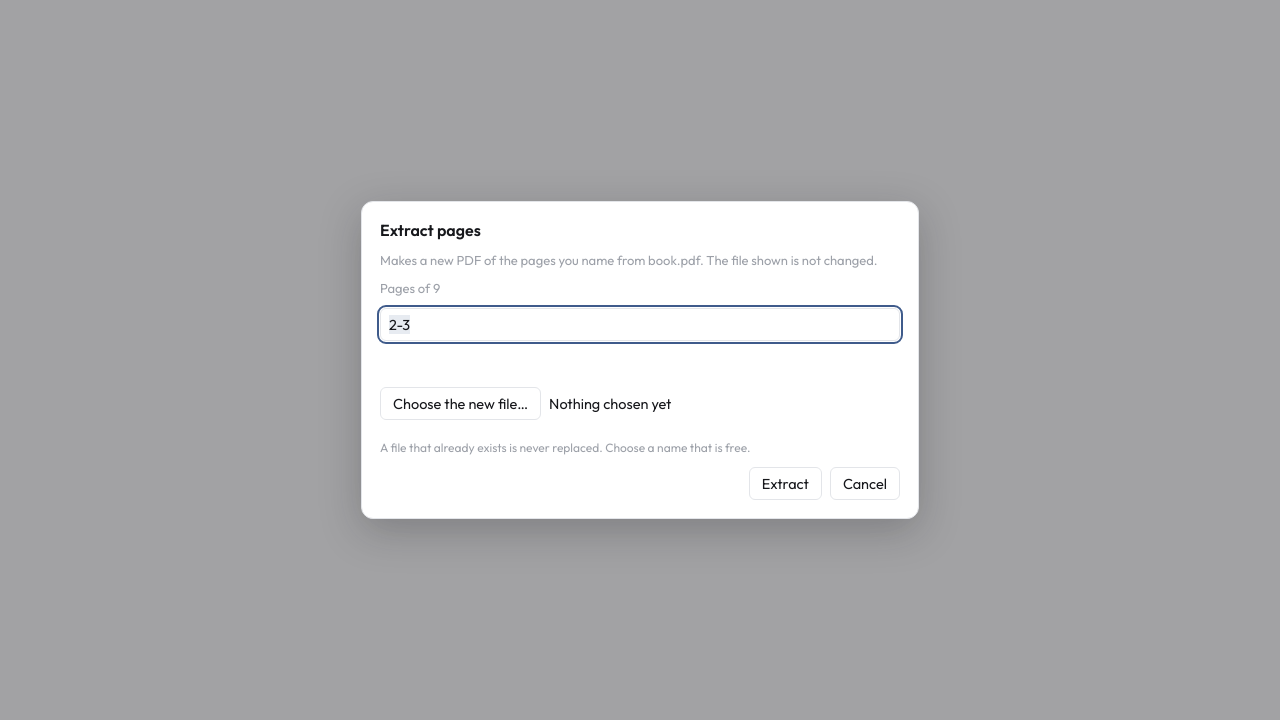
Test: the_pages_field_starts_with_the_chosen_pages_and_says_what_is_wrong_with_a_range
Replace the text in the field labelled "Pages of 9" with "0" at (640, 324), box [380,308,900,341]
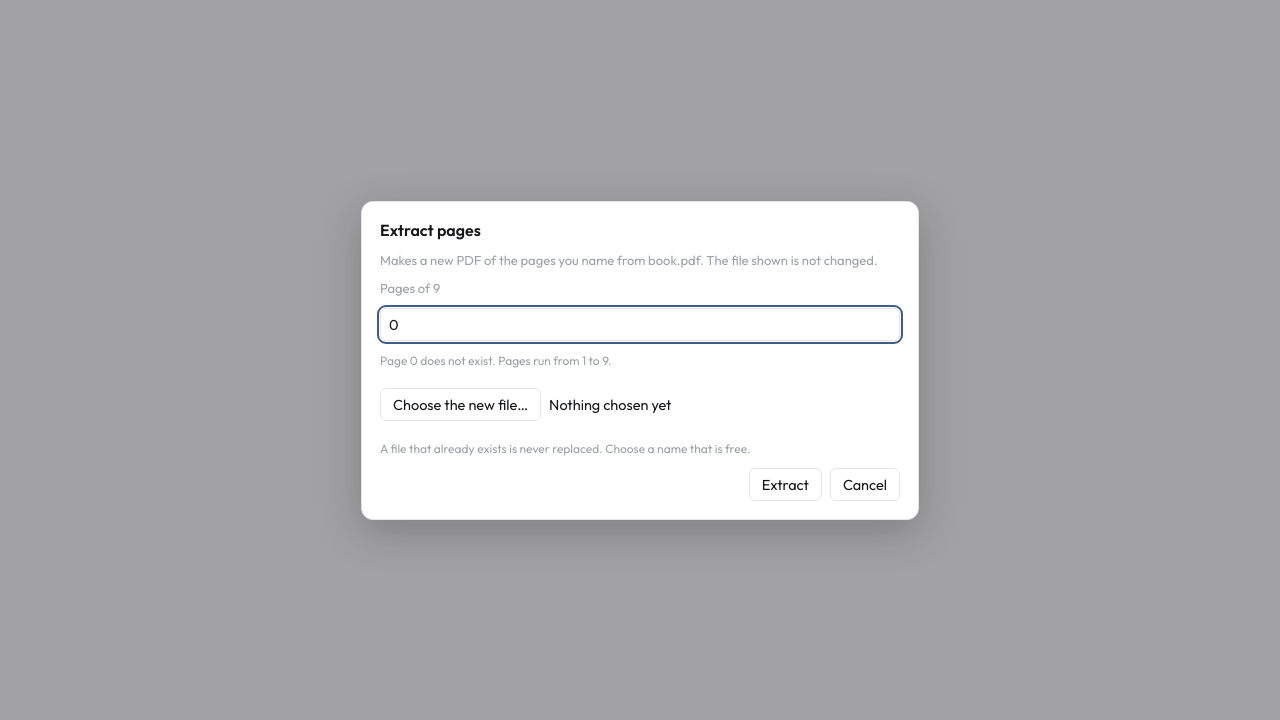
Check: the text "Page 0 does not exist. Pages run from 1 to 9." is shown, box [380,352,612,368]
Replace the text in the field labelled "Pages of 9" with "12" at (640, 324), box [380,308,900,340]
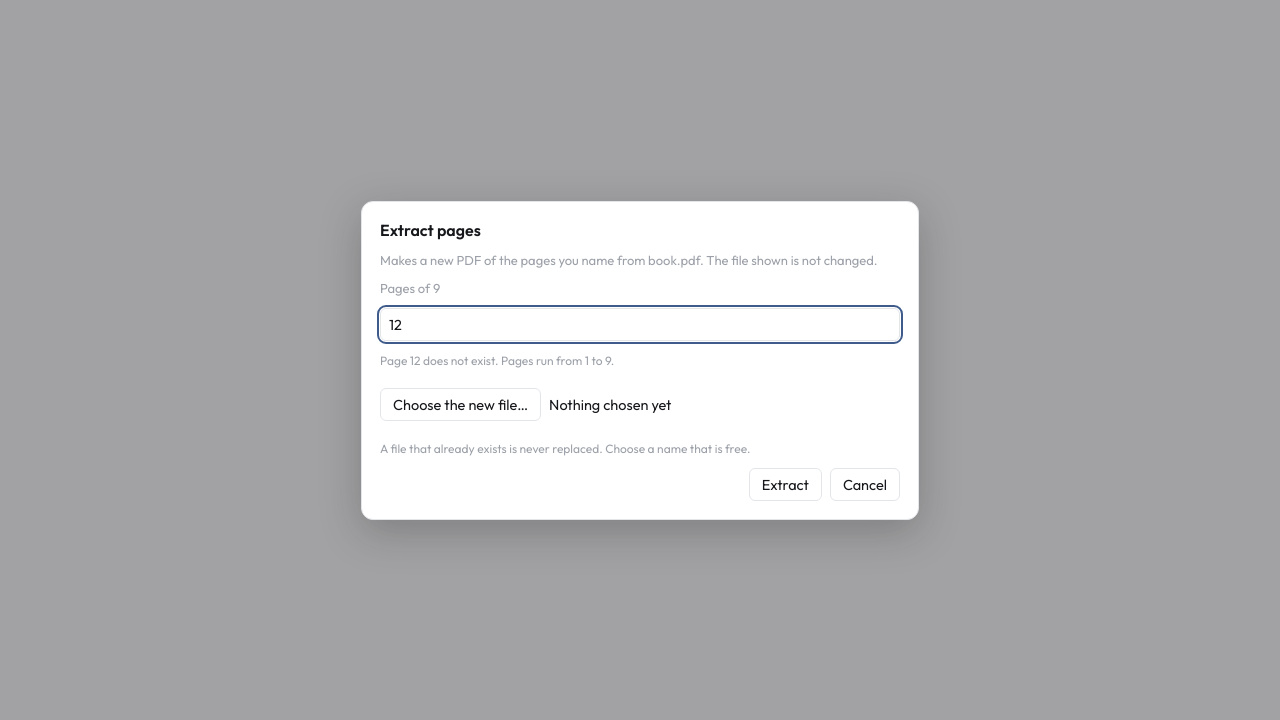
Check: the text "Page 12 does not exist. Pages run from 1 to 9." is shown, box [380,352,614,368]
Replace the text in the field labelled "Pages of 9" with "4-2" at (640, 324), box [380,308,900,340]
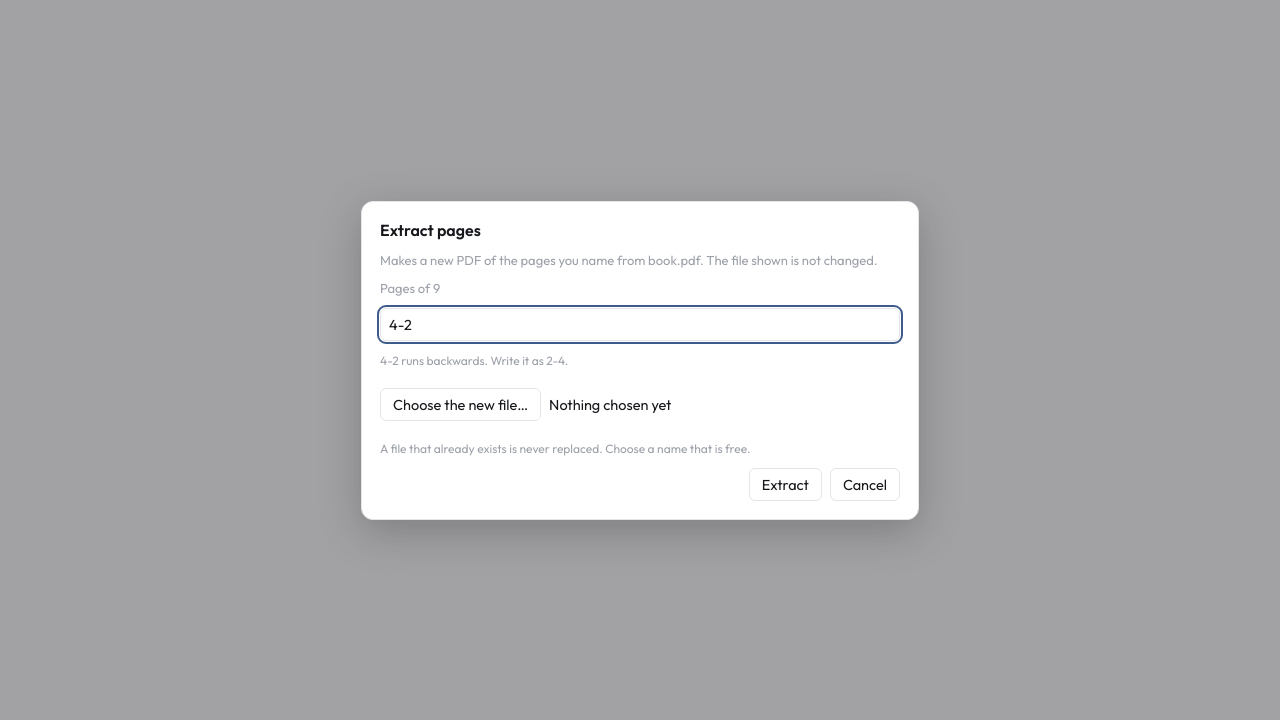
Check: the text "4-2 runs backwards. Write it as 2-4." is shown, box [380,352,568,368]
Replace the text in the field labelled "Pages of 9" with "1-3,3" at (640, 324), box [380,308,900,340]
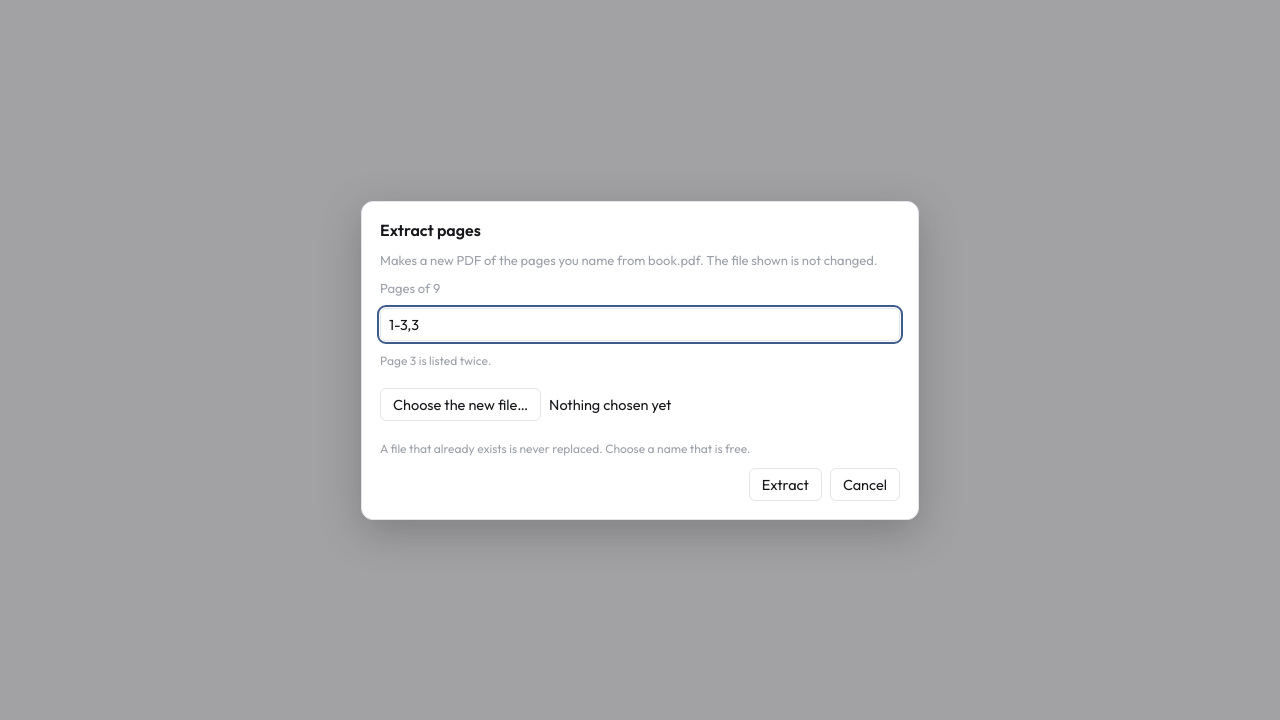
Check: the text "Page 3 is listed twice." is shown, box [380,352,491,368]
